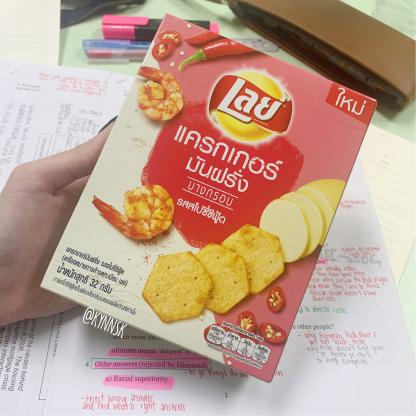potatochip: (38, 10, 383, 382)
